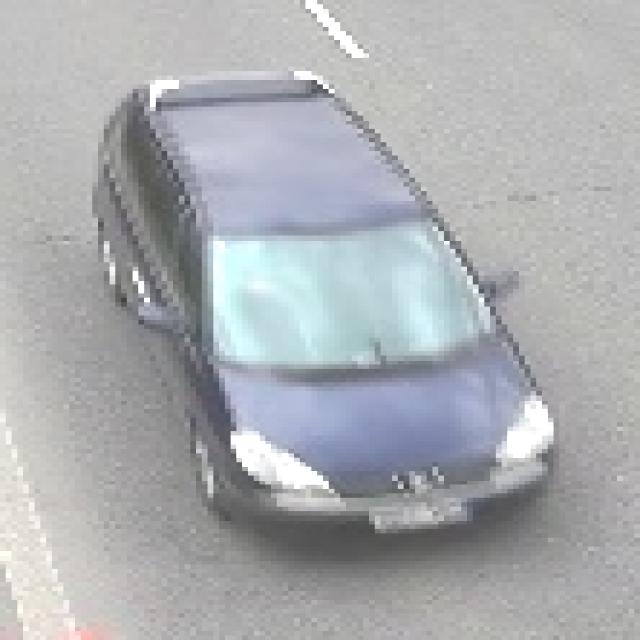SUV: (106, 90, 546, 538)
